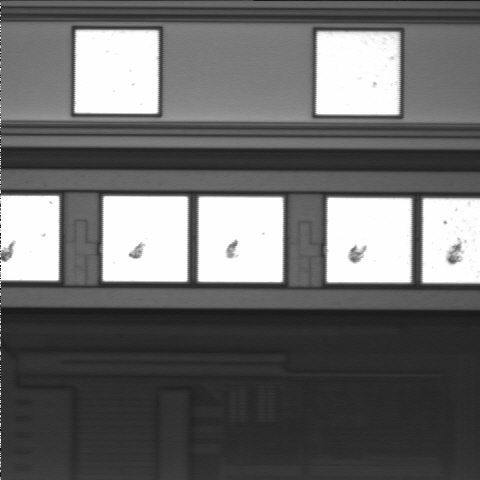pad: (103, 196, 188, 282), (198, 197, 283, 282), (327, 198, 411, 283), (75, 30, 158, 114), (316, 32, 399, 115)
